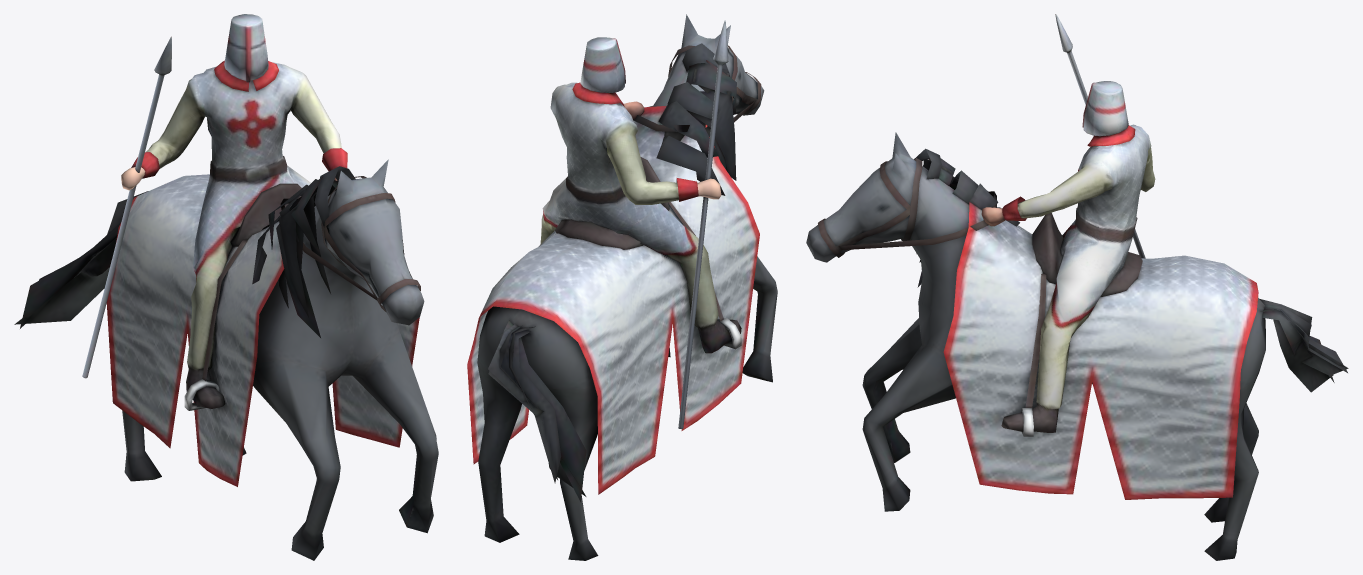
Rendered from Crusaders.glb.
3 views of the same model, side by side, from view 1: azimuth 30°, elevation 25°; view 2: azimuth 150°, elevation 25°; view 3: azimuth 270°, elevation 25° (orthographic). The views are drawn at different scales.
Parts seen in each view (by area): view 1: Plane_011; view 2: Plane_011; view 3: Plane_011.
Boxes of the visible parts, <box> form: Plane_011: <box>14,14,438,560</box>; Plane_011: <box>467,14,777,560</box>; Plane_011: <box>806,14,1348,560</box>.
Bounding box in the file's own units: 1.19 × 2.46 × 2.55.
Materials: 2 (2 with a texture image).
